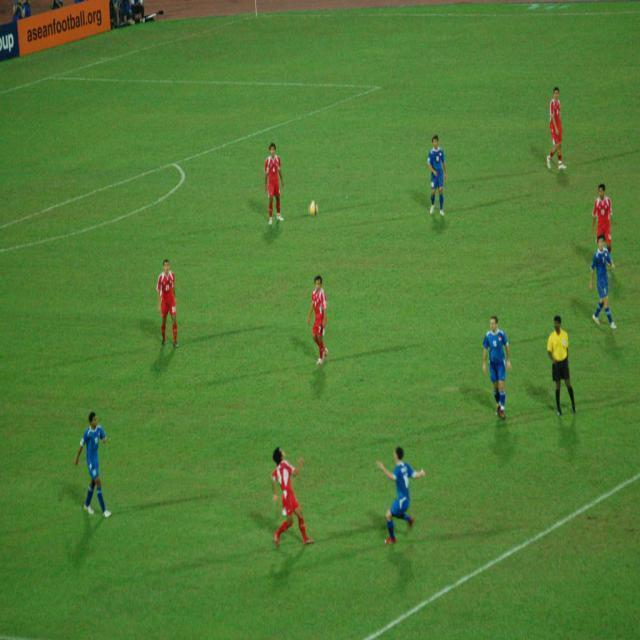ball: (308, 198, 320, 218)
